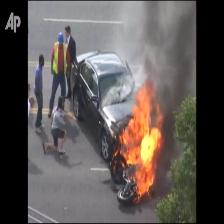fire: (124, 100, 159, 191)
smoke: (141, 2, 191, 101)
